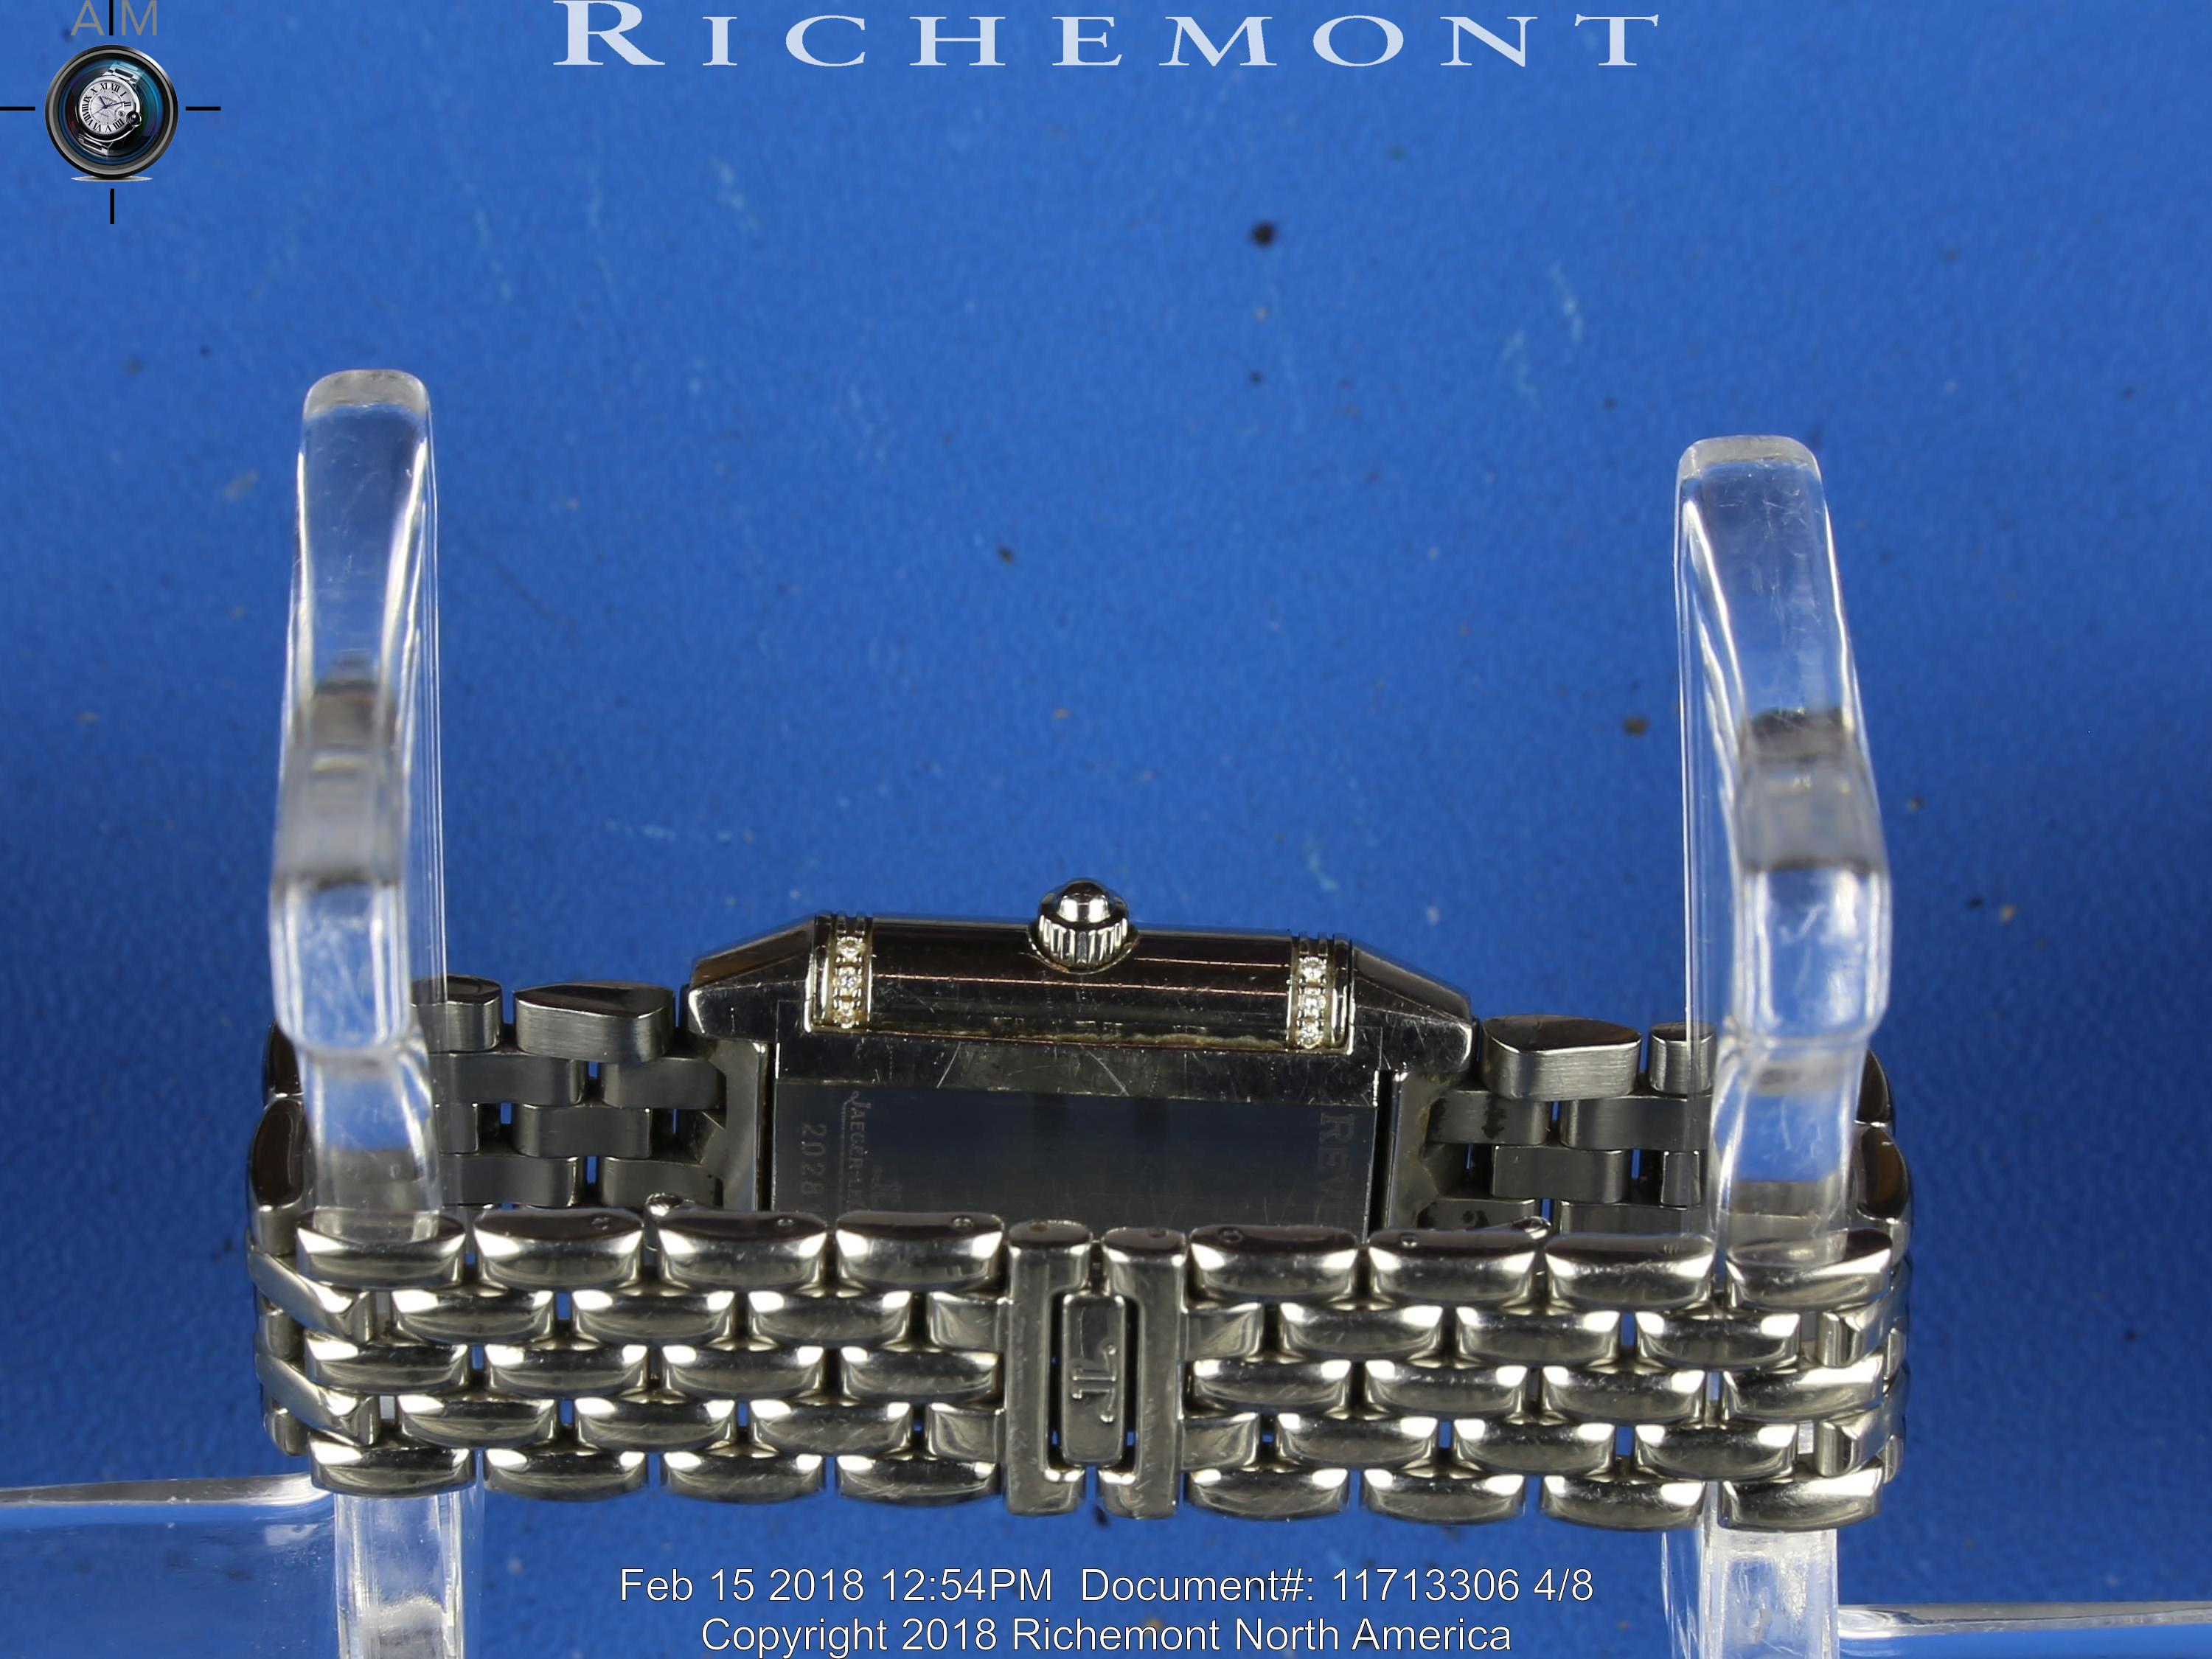Watch Back Case: (685, 880, 1505, 1243)
